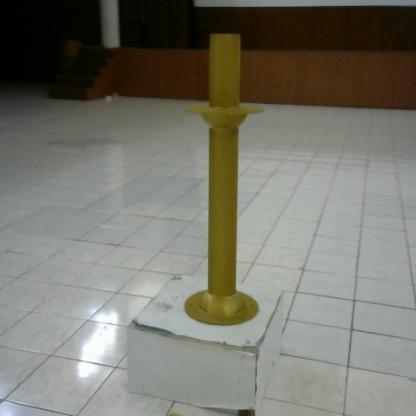pole: (179, 27, 271, 336)
